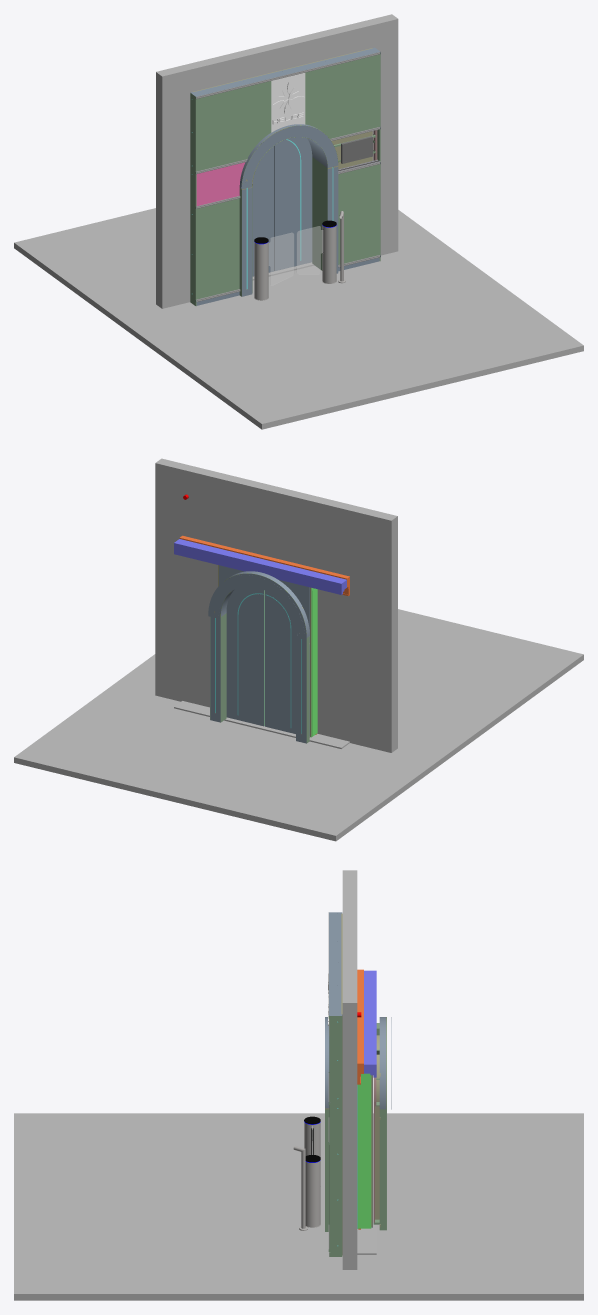
The picture shows the model from 3 angles, top to bottom: view 1: azimuth 30°, elevation 25°; view 2: azimuth 150°, elevation 25°; view 3: azimuth 270°, elevation 25°; orthographic projection. The views are drawn at different scales.
Visible parts, largest first — view 1: Solid1 (×21), Solid2 (×5), Solid4 (×2); view 2: Solid1 (×12), Solid2 (×3); view 3: Solid1 (×17), Solid2.
Part boxes in pixels (x1,y1,x2,y2): Solid1 (×21): (14,14,583,429); Solid2 (×5): (196,52,380,296); Solid4 (×2): (269,226,323,285); Solid1 (×12): (14,459,583,841); Solid2 (×3): (210,576,306,743); Solid1 (×17): (14,870,583,1300); Solid2: (379,1023,386,1109).
Size of the model in its own units: 6 by 4.24 by 8.
